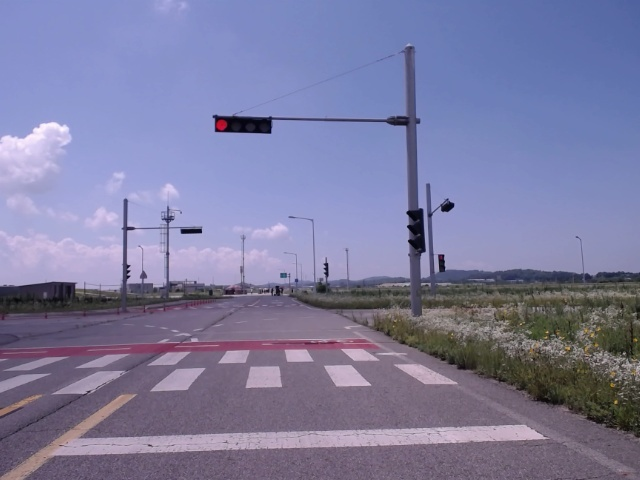red_4: (215, 116, 271, 134)
